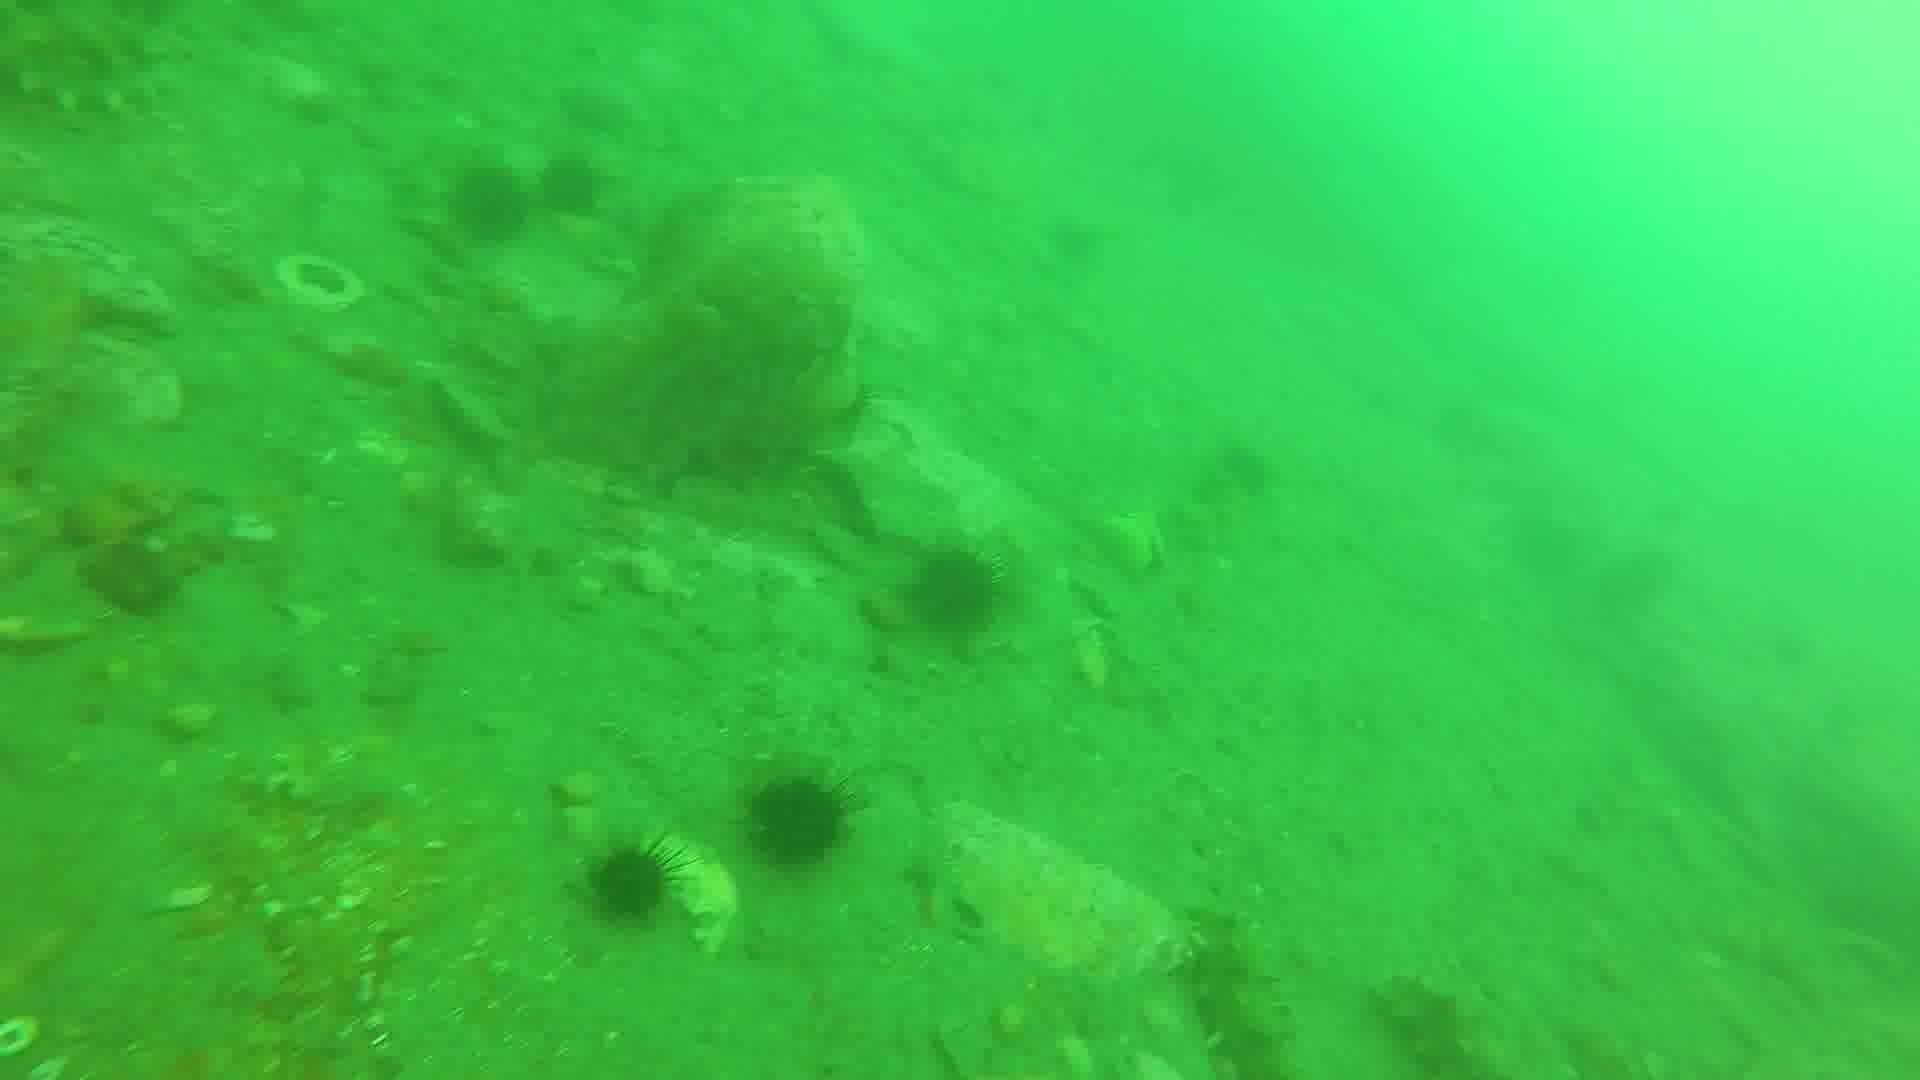echinus: (740, 771, 855, 873), (901, 543, 1007, 642), (578, 835, 684, 928), (442, 160, 531, 247), (534, 150, 609, 222), (553, 78, 636, 141)
holothurian: (1, 3, 185, 124), (1174, 916, 1295, 1080), (1366, 968, 1487, 1079)
scallop: (647, 833, 746, 957)
